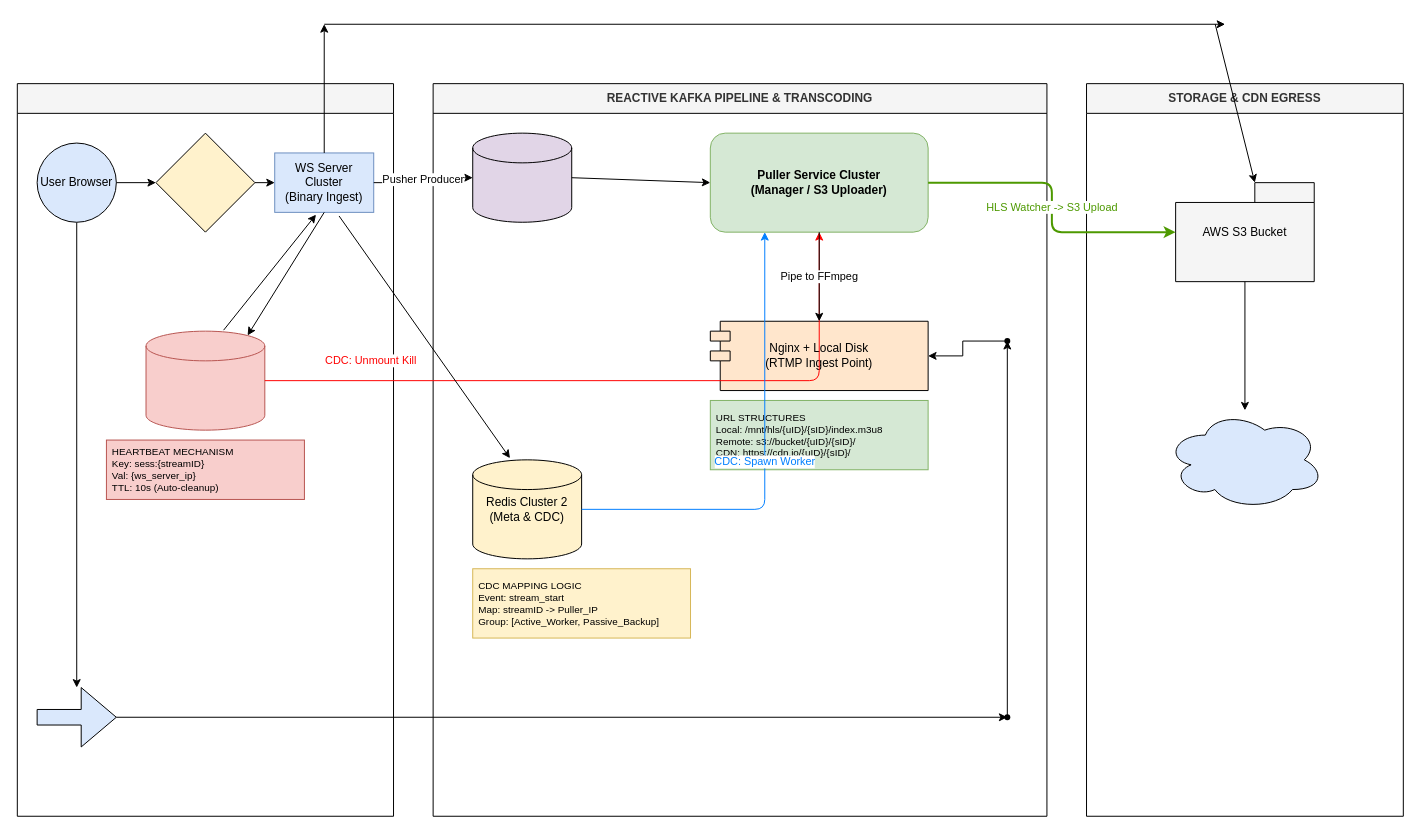
The diagram is 1421 pixels wide and 834 high, and some of its shapes have lost their labels. The shapes that lost their labels are listed below. From the top down, each one's box as (x1, y1, x2, y2) in pixels, then its label:
(155, 132, 255, 232): WebSocket LB (Nginx/HAProxy)
(472, 132, 572, 222): Kafka Cluster
(145, 330, 265, 430): Redis Cluster 1 (WS Registry)
(16, 83, 394, 816): INGEST & SESSION REGISTRY
(1165, 409, 1324, 509): CloudFront CDN
